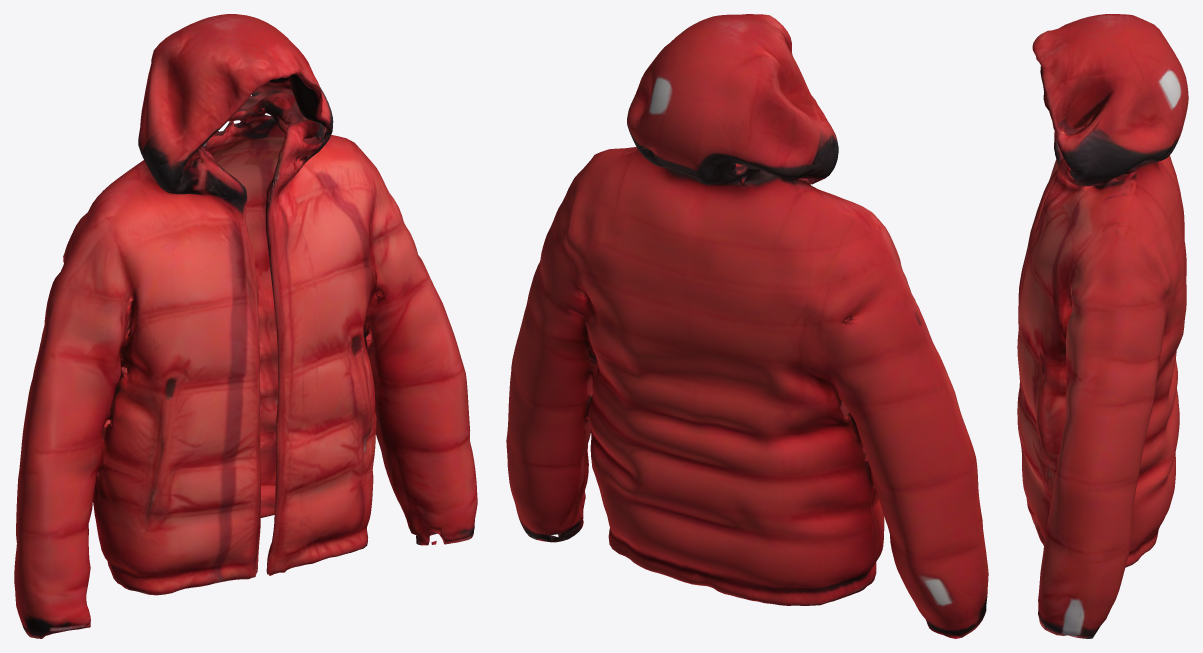
3 renders of one model, left to right at view 1: azimuth 30°, elevation 25°; view 2: azimuth 150°, elevation 25°; view 3: azimuth 270°, elevation 25°, orthographic. The views are drawn at different scales.
Size of the model in its own units: 1.71 by 2 by 0.5899.
Materials: 1 (1 with a texture image).
